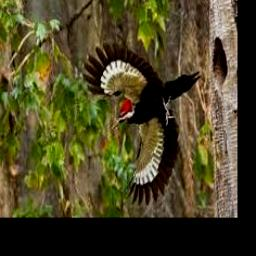Woodpecker: (79, 40, 201, 203)
